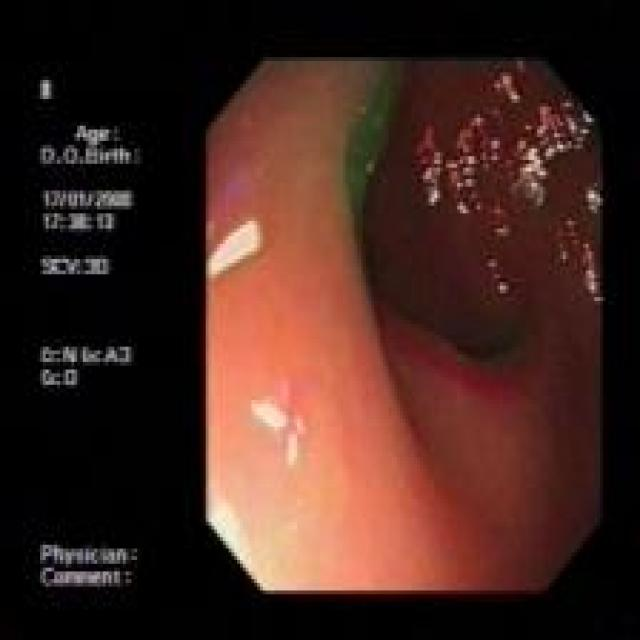color misalignment: (36, 74, 147, 601), (416, 107, 510, 239), (332, 58, 405, 227), (512, 100, 594, 213), (488, 66, 521, 108)
contrast: (378, 228, 544, 379)
saturation: (206, 427, 339, 592)
specularity: (205, 219, 262, 281), (249, 397, 287, 437)
